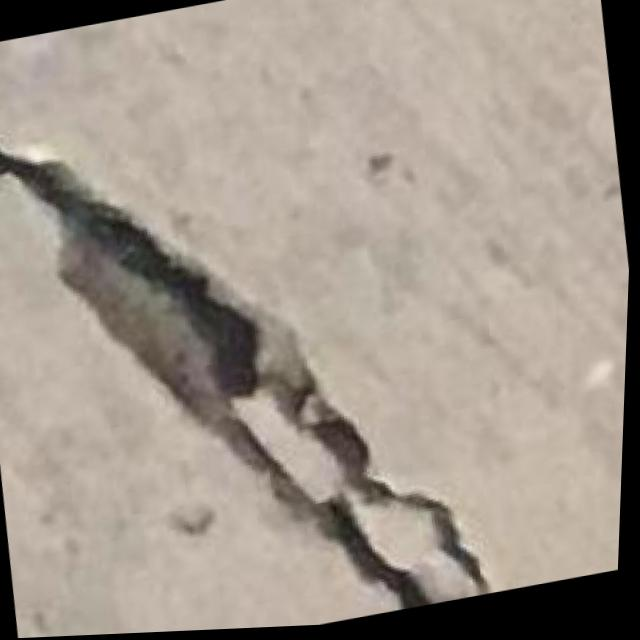Crack: (0, 1, 524, 640)
